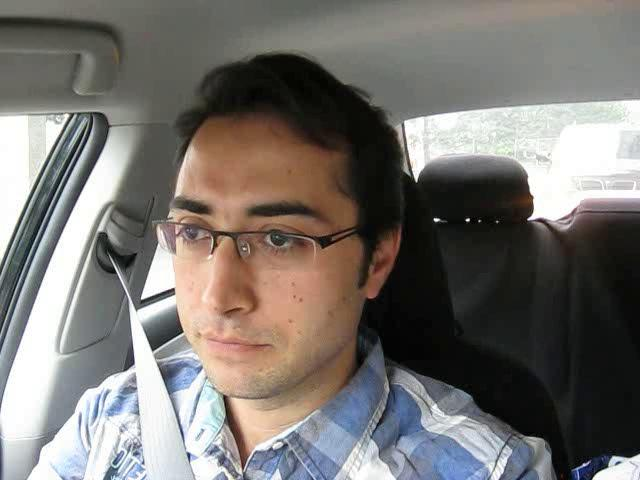no_yawn: (187, 322, 286, 365)
open_eyeL: (161, 213, 219, 258)
open_eyeR: (245, 216, 320, 268)
